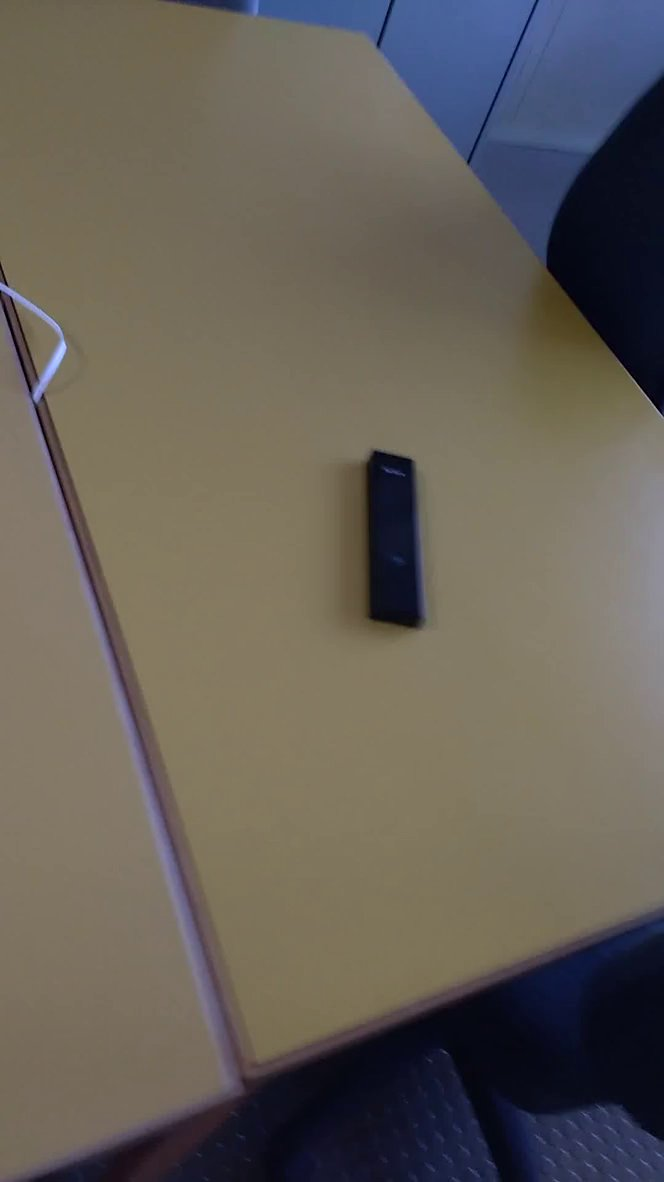remote: (343, 440, 463, 664)
